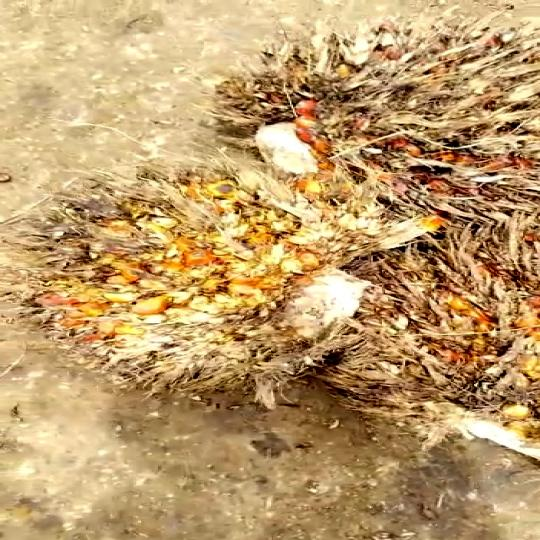terlalu masak: (8, 162, 388, 397), (227, 38, 540, 216)
